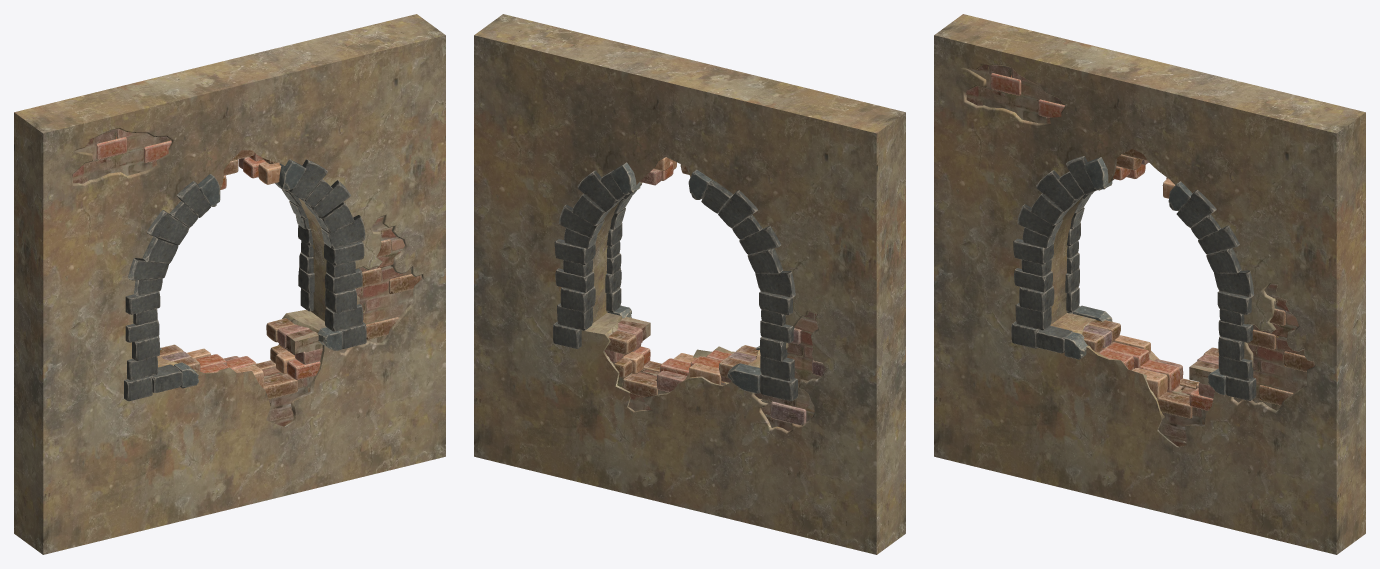
The picture shows the model from 3 angles, left to right: view 1: azimuth 30°, elevation 25°; view 2: azimuth 150°, elevation 25°; view 3: azimuth 330°, elevation 25°; orthographic projection.
Visible parts, largest first — view 1: SM_Human_Ruins_Window_03v3_LOD0; view 2: SM_Human_Ruins_Window_03v3_LOD0; view 3: SM_Human_Ruins_Window_03v3_LOD0.
Boxes of the visible parts, x1=… form: SM_Human_Ruins_Window_03v3_LOD0: x1=14, y1=14, x2=445, y2=554; SM_Human_Ruins_Window_03v3_LOD0: x1=474, y1=14, x2=905, y2=554; SM_Human_Ruins_Window_03v3_LOD0: x1=934, y1=14, x2=1365, y2=554.
Size of the model in its own units: 4 by 4 by 0.6634.
4 materials, 4 textured.
